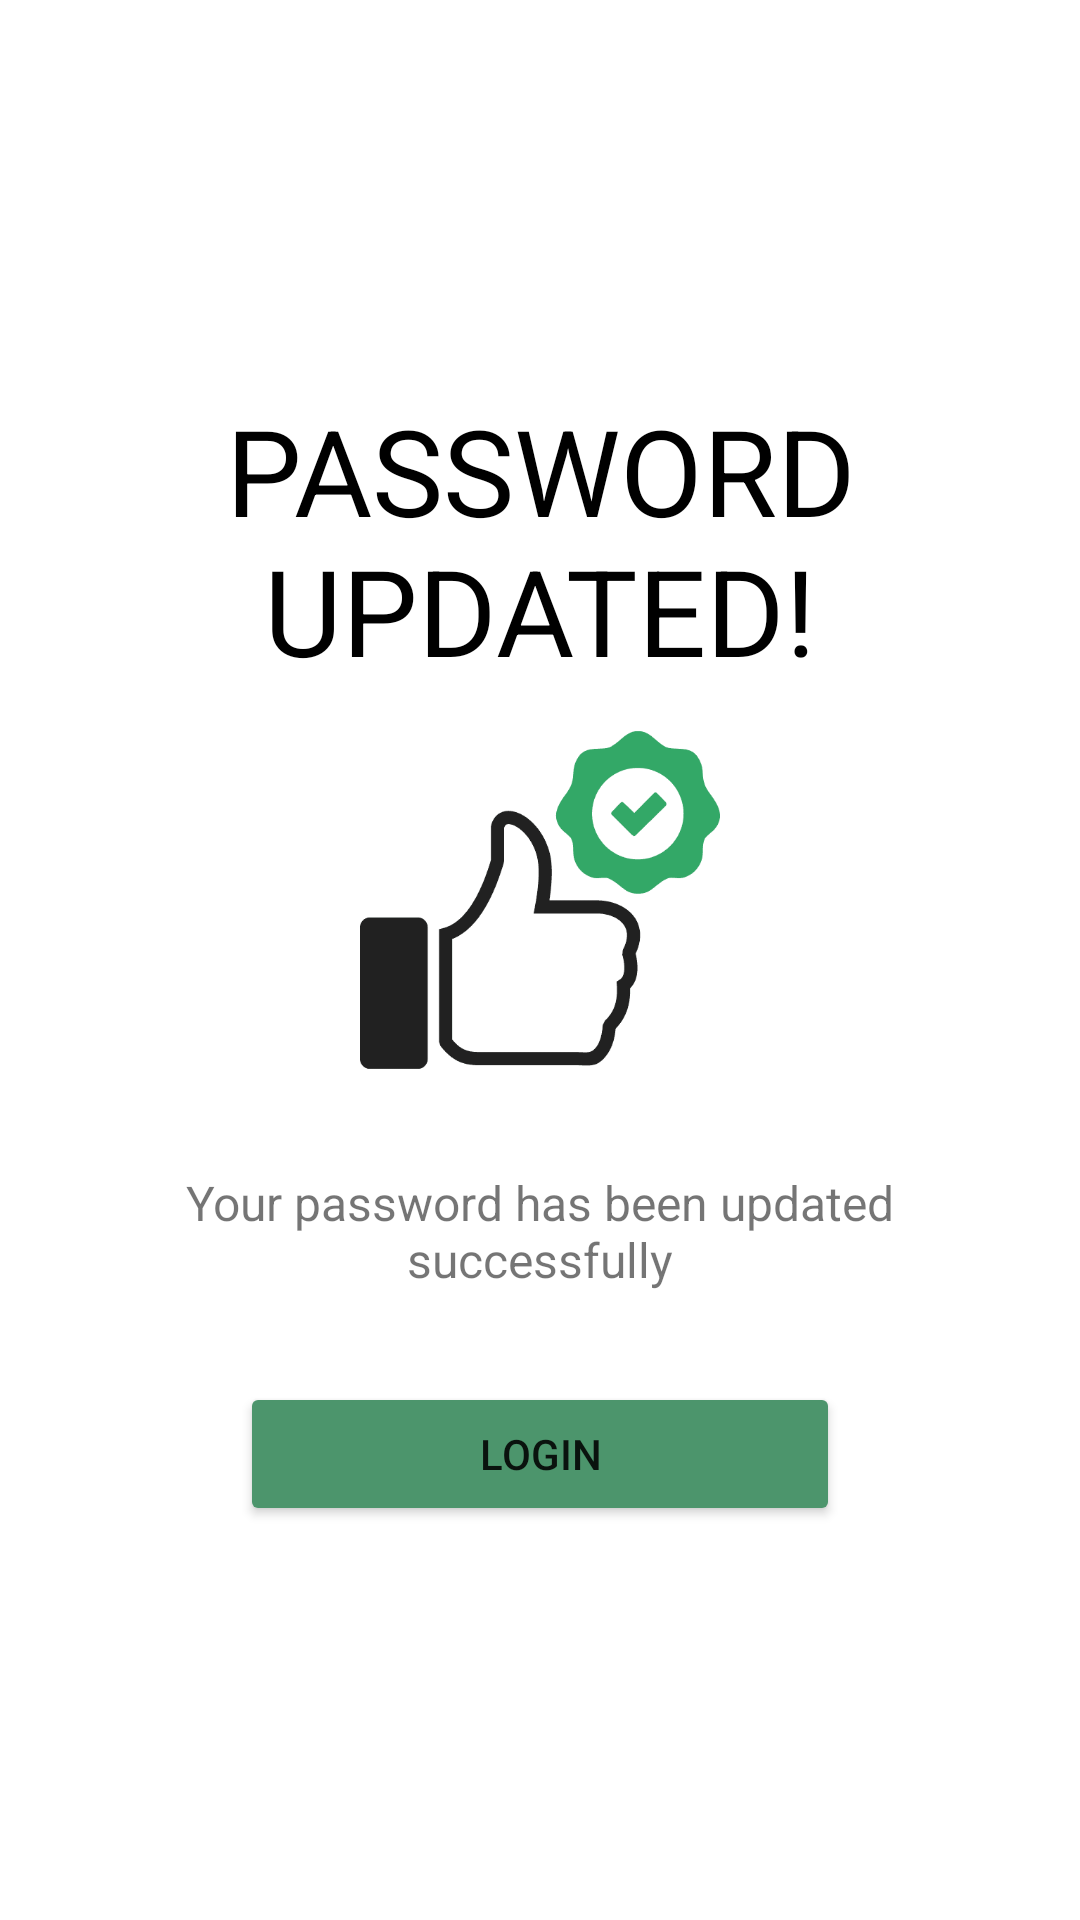

Screen size 1080px×1920px. Icon name, then its box in pixels as (x1, y1, x2, y2):
endorsement: (360, 731, 720, 1069)
